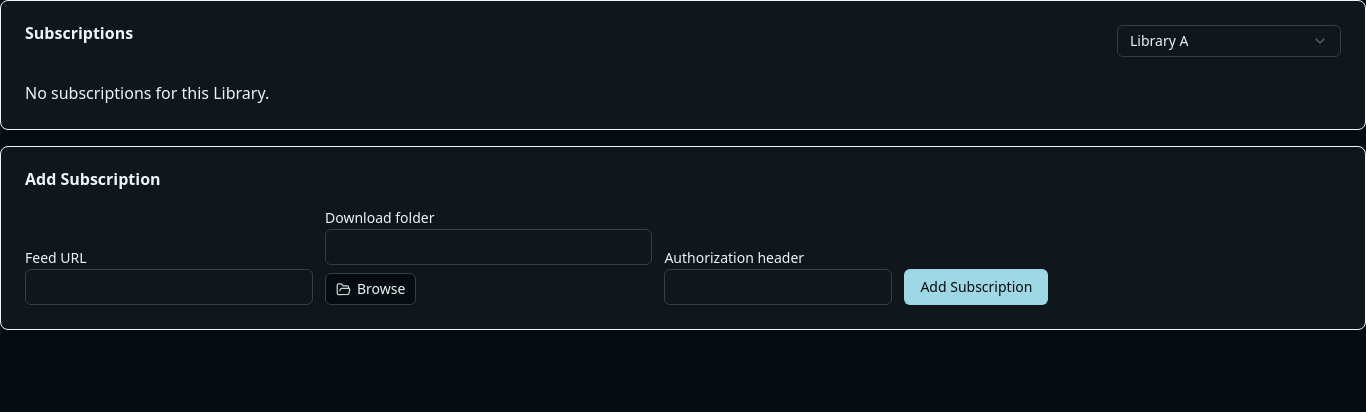
Test case: SubscriptionsPage › does not let an older library response replace the current library
This screenshot has width=1366, height=412.
Click the dropdown labelled "Library" at (1229, 41), box x1=1117 y1=25 x2=1341 y2=57
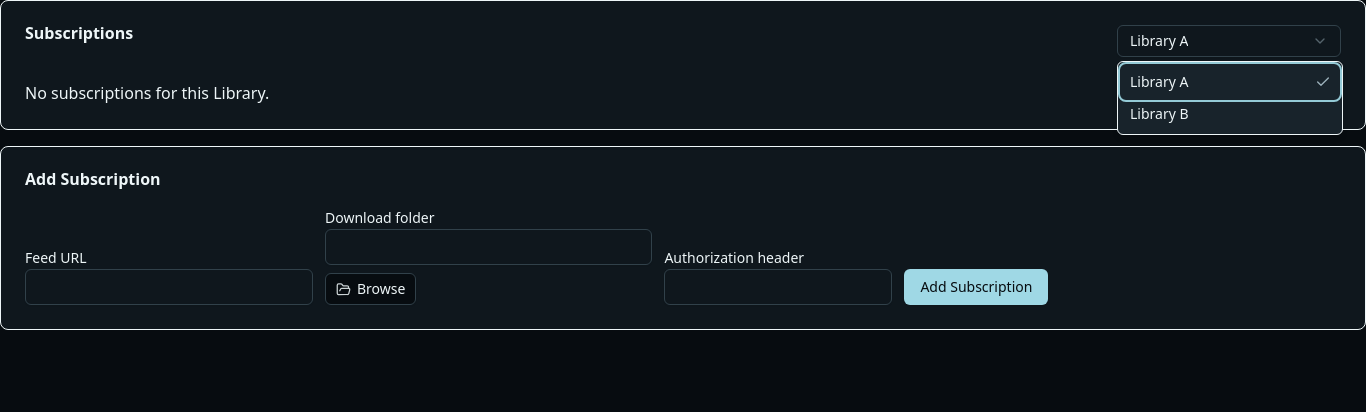
Click the option "Library B" at (1159, 114), box x1=1130 y1=104 x2=1189 y2=123
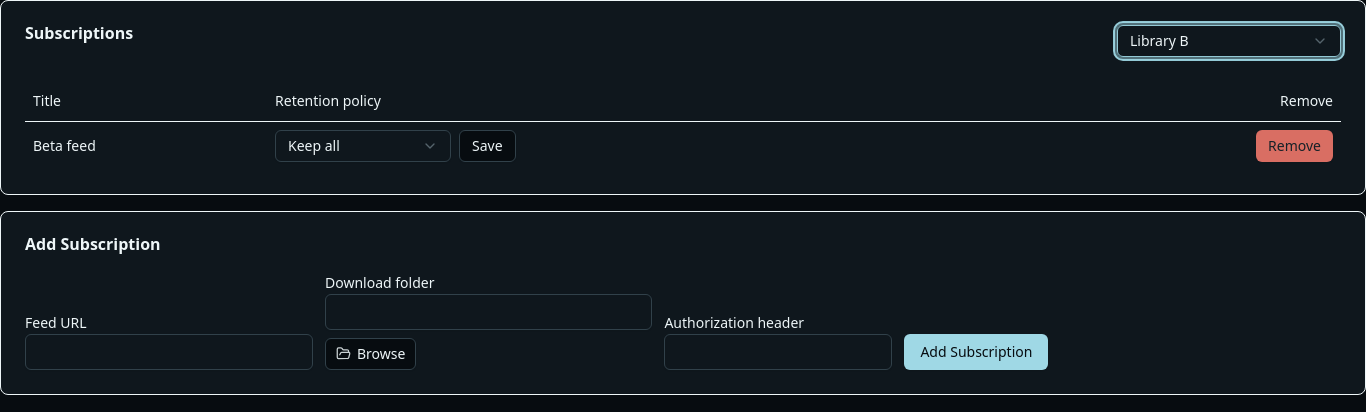
Now the text "Beta feed" is shown, box x1=25 y1=121 x2=267 y2=170
